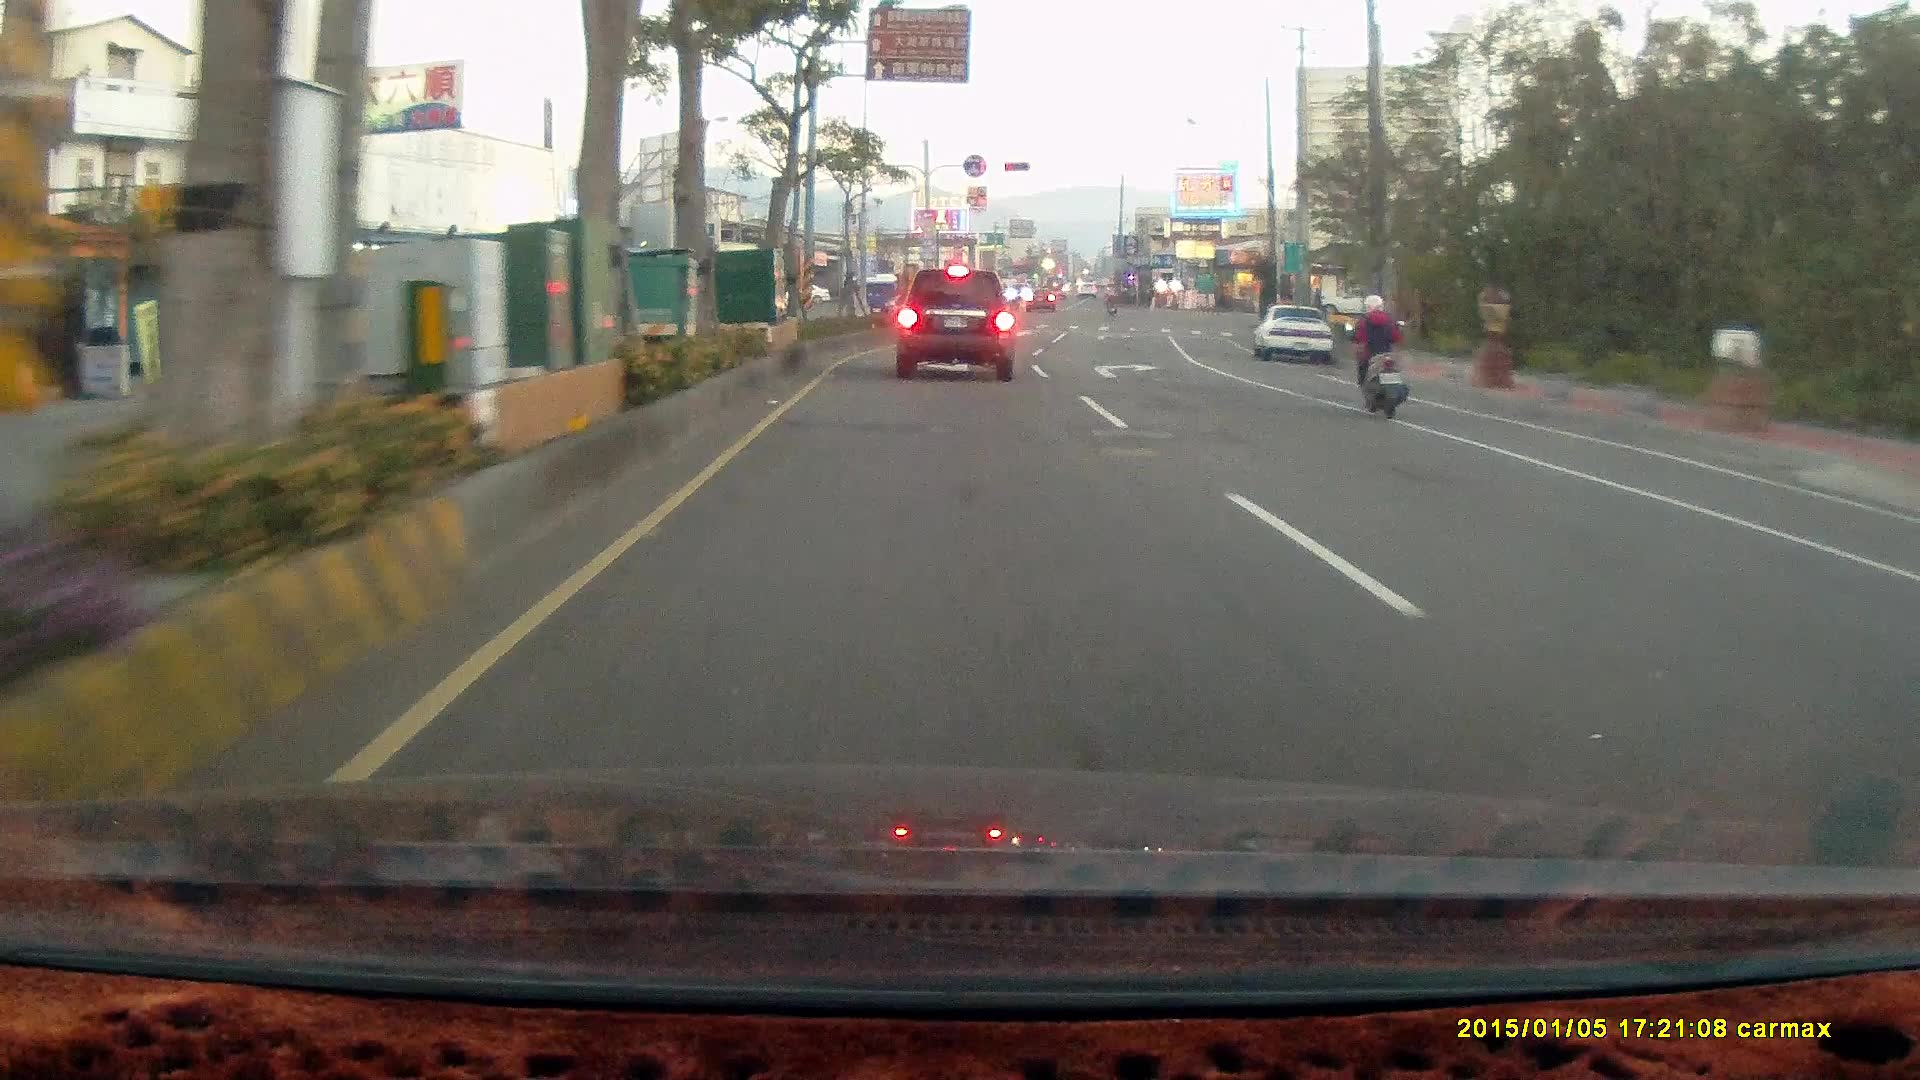rider: (1342, 294, 1408, 423)
vehicle: (894, 267, 1012, 380), (1896, 493, 1920, 836), (1883, 528, 1920, 690), (1251, 301, 1335, 364), (1253, 304, 1337, 367), (1, 338, 44, 435), (1308, 281, 1384, 317)
